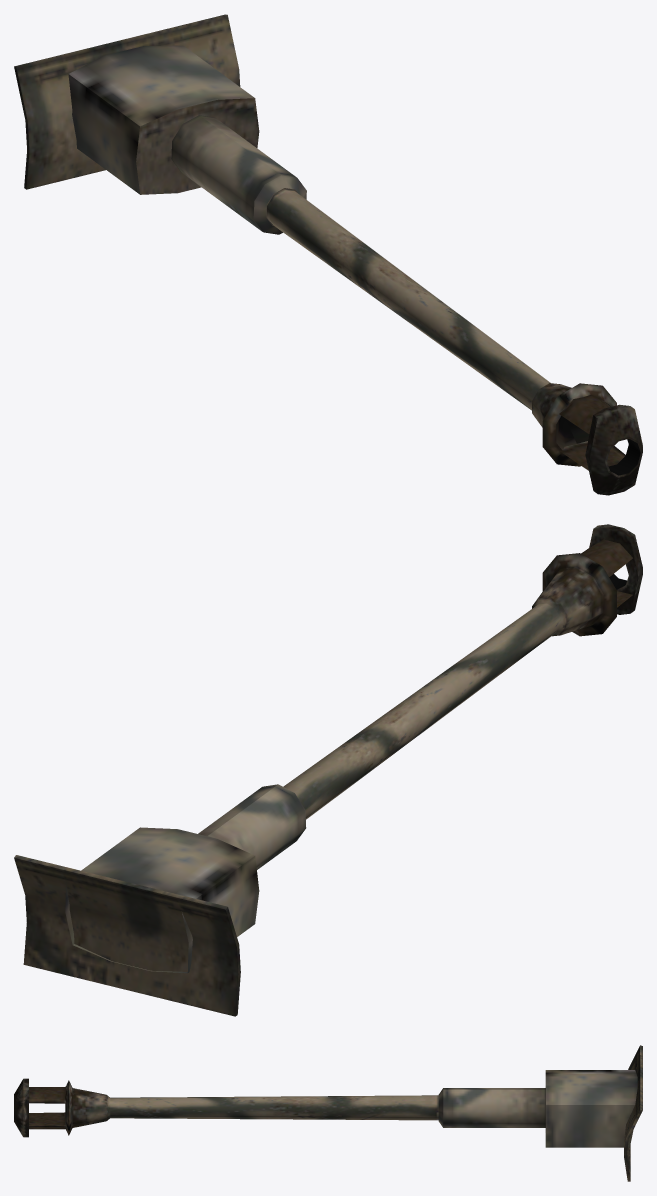
The model's file is Gun.fbx.
3 views of the same model, one above another, from view 1: azimuth 30°, elevation 25°; view 2: azimuth 150°, elevation 25°; view 3: azimuth 270°, elevation 25° (orthographic). The views are drawn at different scales.
Parts seen in each view (by area): view 1: Gun; view 2: Gun; view 3: Gun.
Boxes of the visible parts, left/top/right/bottom form: Gun: left=14, top=14, right=642, bottom=495; Gun: left=14, top=524, right=642, bottom=1016; Gun: left=14, top=1045, right=642, bottom=1181.
Size of the model in its own units: 91.18 by 47.7 by 376.
